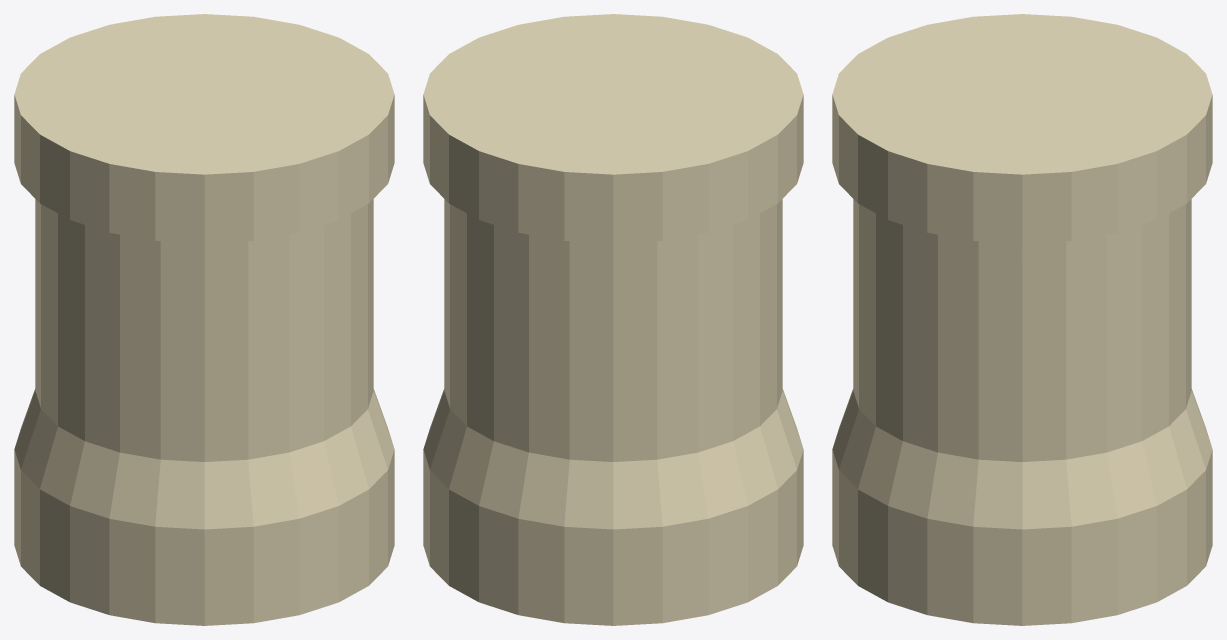
Rendered from towerbase.glb.
3 renders of one model, left to right at view 1: azimuth 30°, elevation 25°; view 2: azimuth 150°, elevation 25°; view 3: azimuth 270°, elevation 25°, orthographic.
Visible parts, largest first — view 1: towerBase; view 2: towerBase; view 3: towerBase.
Boxes of the visible parts, x1=… form: towerBase: x1=14, y1=14, x2=394, y2=625; towerBase: x1=423, y1=14, x2=803, y2=625; towerBase: x1=832, y1=14, x2=1212, y2=625.
Bounding box in the file's own units: 10 × 13.1 × 10.
